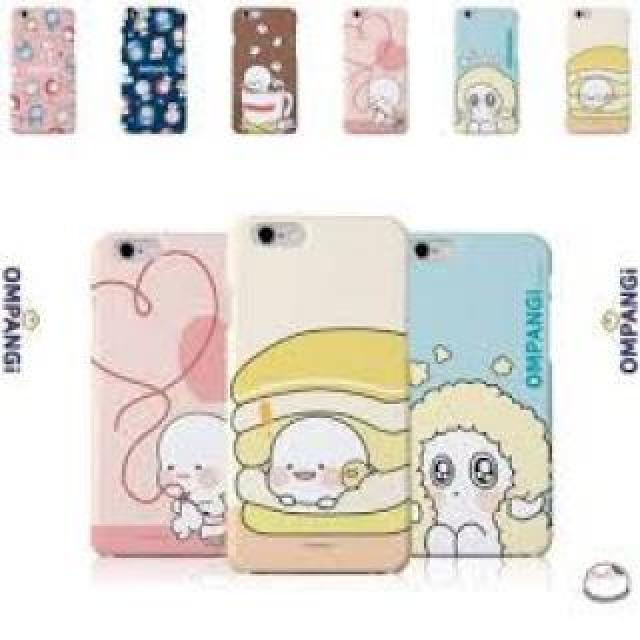smart phone: (240, 185, 418, 622), (413, 205, 562, 583), (90, 218, 228, 567), (215, 0, 313, 140), (443, 0, 527, 157), (0, 2, 85, 143), (345, 3, 417, 154), (118, 0, 190, 142), (564, 0, 634, 142)
